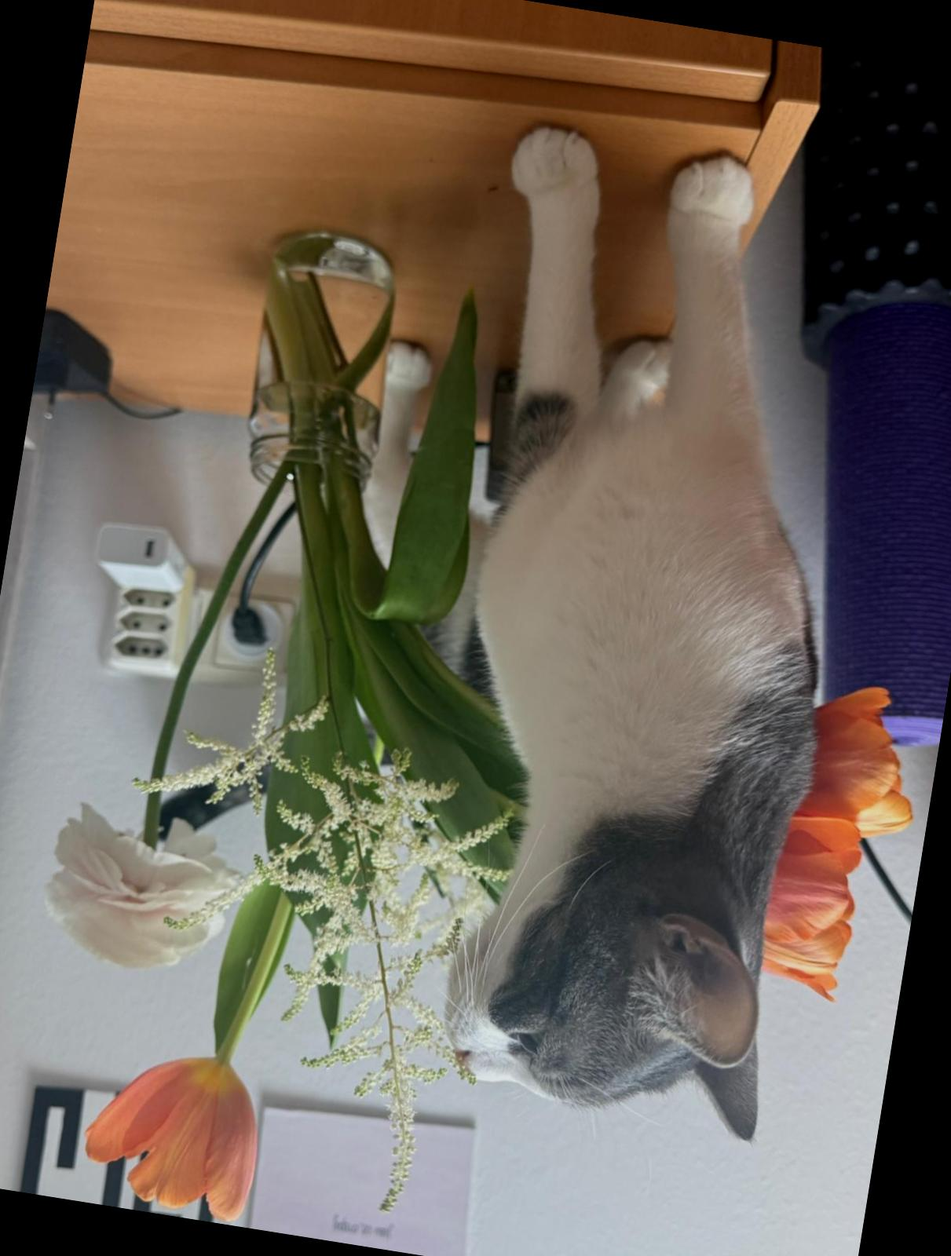macka: (363, 122, 907, 1142)
